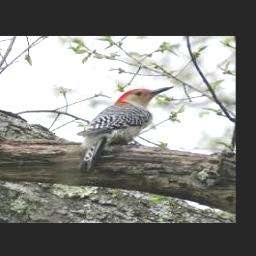Woodpecker: (77, 86, 175, 171)
